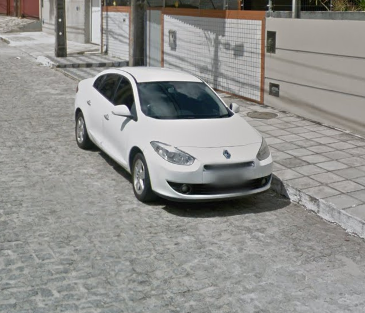car: (72, 64, 275, 205)
